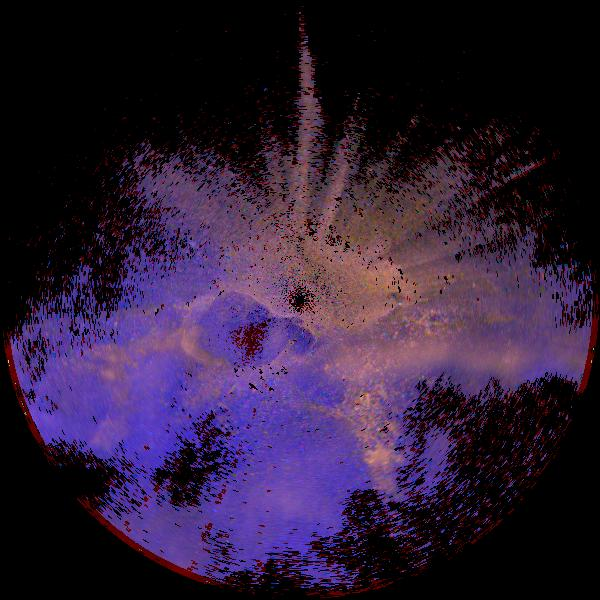roost: (29, 342, 146, 459), (120, 323, 225, 428)
